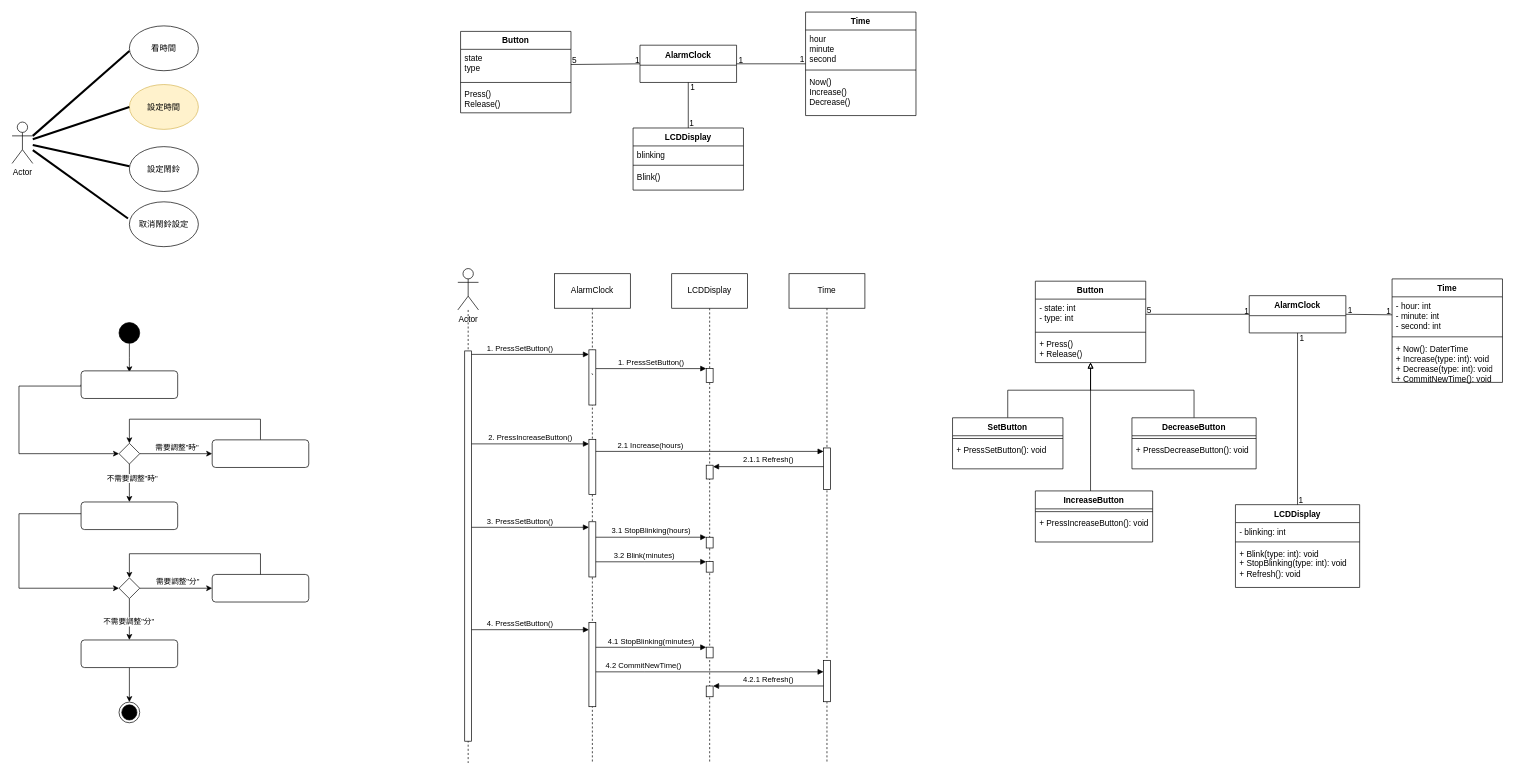
Image size: 1515x776. Some labels were removed from this diagram. Each missing label, with the centre of its shape:
按下"+"加1分鐘 按下"-"減1分鐘: pixel 260 588
按下"+"加1小時 按下"-"減1小時: pixel 260 453
按下設定鈕 "分"閃爍: pixel 129 515
按下設定鈕 "時"閃爍: pixel 129 384
按下設定鈕 停止閃爍, 設定完成: pixel 129 653
